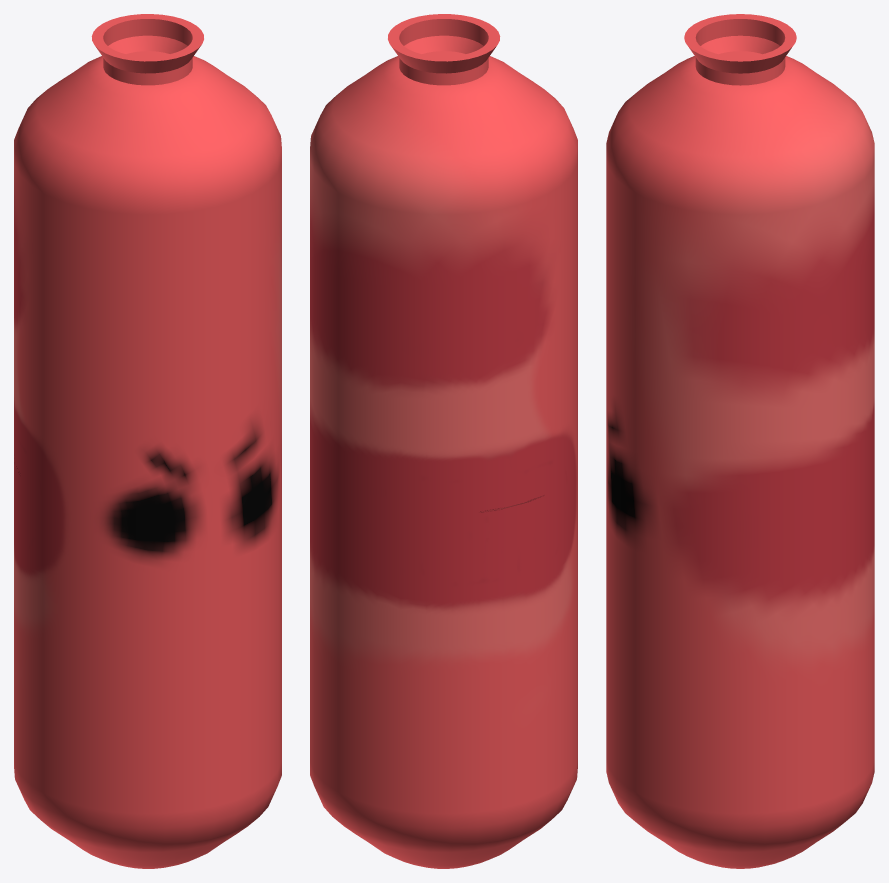
The model's file is sosiska2.fbx.
The picture shows the model from 3 angles, left to right: view 1: azimuth 30°, elevation 25°; view 2: azimuth 150°, elevation 25°; view 3: azimuth 270°, elevation 25°; orthographic projection.
Visible parts, largest first — view 1: Cylinder; view 2: Cylinder; view 3: Cylinder.
Part boxes in pixels (box(x1,y1,x2,y2)): Cylinder: box(14, 14, 281, 868); Cylinder: box(310, 14, 577, 868); Cylinder: box(606, 14, 874, 868).
Bounding box in the file's own units: 166 × 559 × 166.
